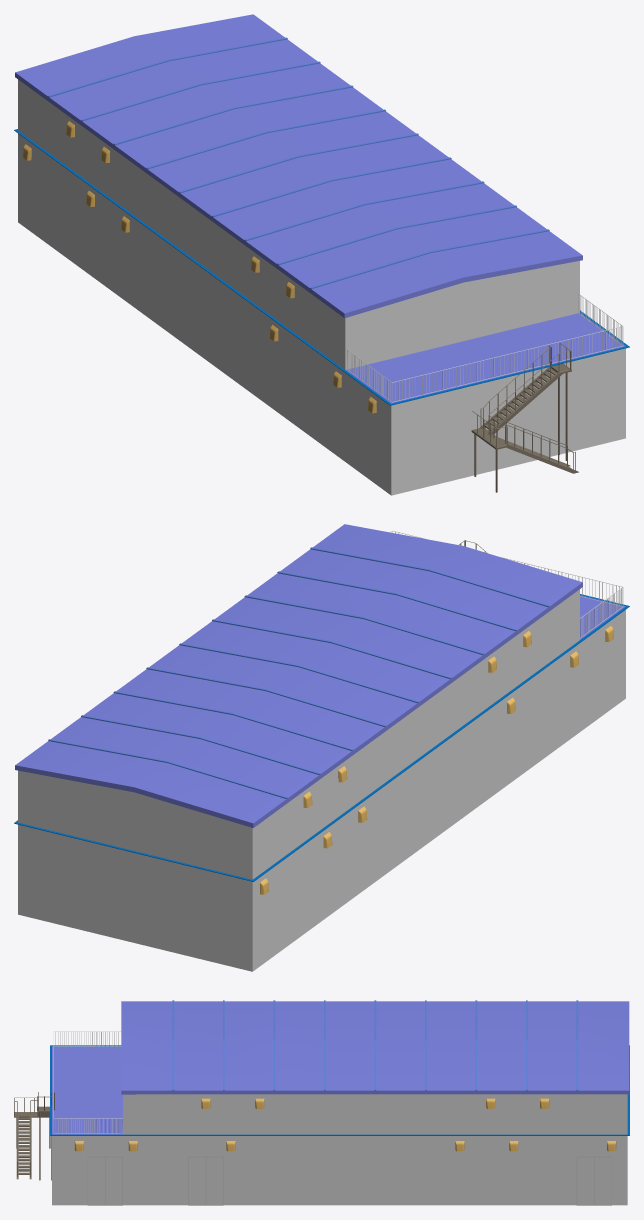
Rendered from house05.gltf.
The picture shows the model from 3 angles, top to bottom: view 1: azimuth 30°, elevation 25°; view 2: azimuth 150°, elevation 25°; view 3: azimuth 270°, elevation 25°; orthographic projection. The views are drawn at different scales.
Parts seen in each view (by area): view 1: wall-材质, wall-Mat3d66-10278655-42-18108, rr, stair, rail, Obj3d66_10278655_2373_288, house05; view 2: wall-Mat3d66-10278655-42-18108, wall-材质, rr, Obj3d66_10278655_2373_288, house05, rail; view 3: wall-Mat3d66-10278655-42-18108, wall-材质, rr, Obj3d66_10278655_2373_288, stair, rail, house05, doorFrame.
Part boxes in pixels (x1=…): wall-材质: x1=15, y1=14, x2=625, y2=403; wall-Mat3d66-10278655-42-18108: x1=18, y1=79, x2=625, y2=495; rr: x1=48, y1=37, x2=549, y2=289; stair: x1=471, y1=343, x2=578, y2=492; rail: x1=347, y1=293, x2=623, y2=402; Obj3d66_10278655_2373_288: x1=14, y1=129, x2=629, y2=405; house05: x1=22, y1=121, x2=376, y2=413; wall-Mat3d66-10278655-42-18108: x1=18, y1=589, x2=625, y2=971; wall-材质: x1=15, y1=524, x2=625, y2=827; rr: x1=48, y1=547, x2=549, y2=798; Obj3d66_10278655_2373_288: x1=14, y1=594, x2=629, y2=881; house05: x1=260, y1=626, x2=613, y2=894; rail: x1=390, y1=530, x2=623, y2=638; wall-Mat3d66-10278655-42-18108: x1=52, y1=1094, x2=627, y2=1205; wall-材质: x1=52, y1=1001, x2=629, y2=1134; rr: x1=172, y1=1000, x2=578, y2=1090; Obj3d66_10278655_2373_288: x1=50, y1=1045, x2=629, y2=1135; stair: x1=14, y1=1092, x2=54, y2=1180; rail: x1=53, y1=1031, x2=122, y2=1133; house05: x1=74, y1=1098, x2=616, y2=1151; doorFrame: x1=87, y1=1156, x2=611, y2=1205.
Size of the model in its own units: 1158 by 721 by 3310.
